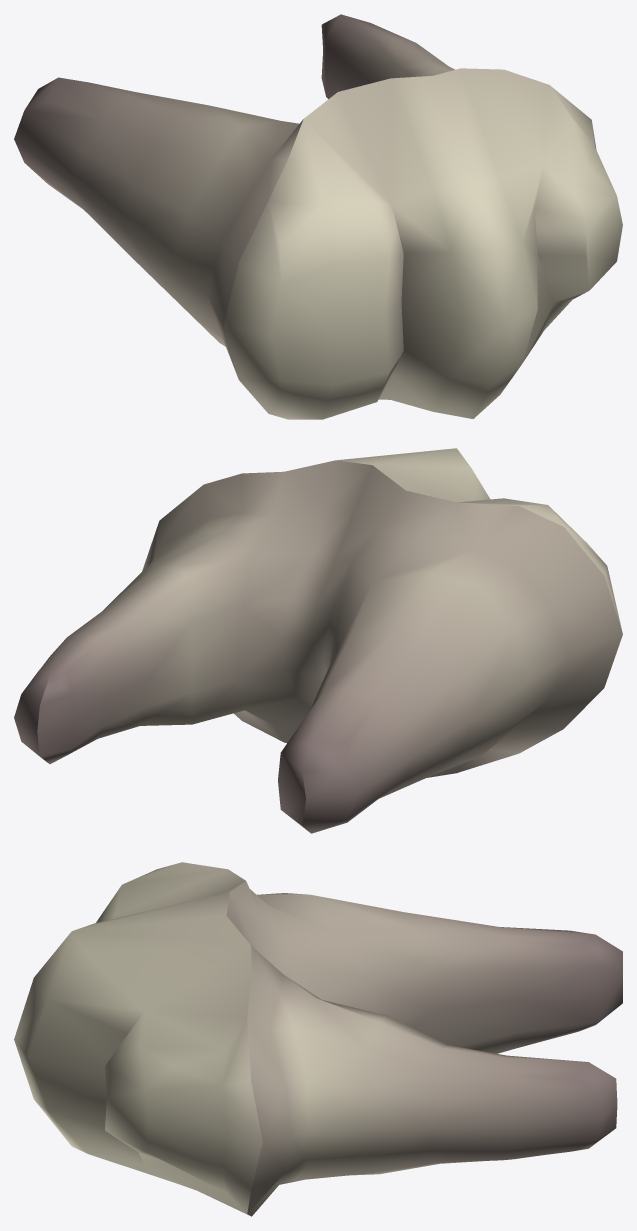
File: animals-animalparts-tooth_v1.glb
3 renders of one model, top to bottom at view 1: azimuth 30°, elevation 25°; view 2: azimuth 150°, elevation 25°; view 3: azimuth 270°, elevation 25°, orthographic. The views are drawn at different scales.
Visible parts, largest first — view 1: Tooth_v1; view 2: Tooth_v1; view 3: Tooth_v1.
Part boxes in pixels (x1=…): Tooth_v1: x1=14, y1=14, x2=622, y2=419; Tooth_v1: x1=14, y1=448, x2=622, y2=833; Tooth_v1: x1=14, y1=862, x2=622, y2=1216.
Size of the model in its own units: 0.3955 by 0.2748 by 0.5114.
